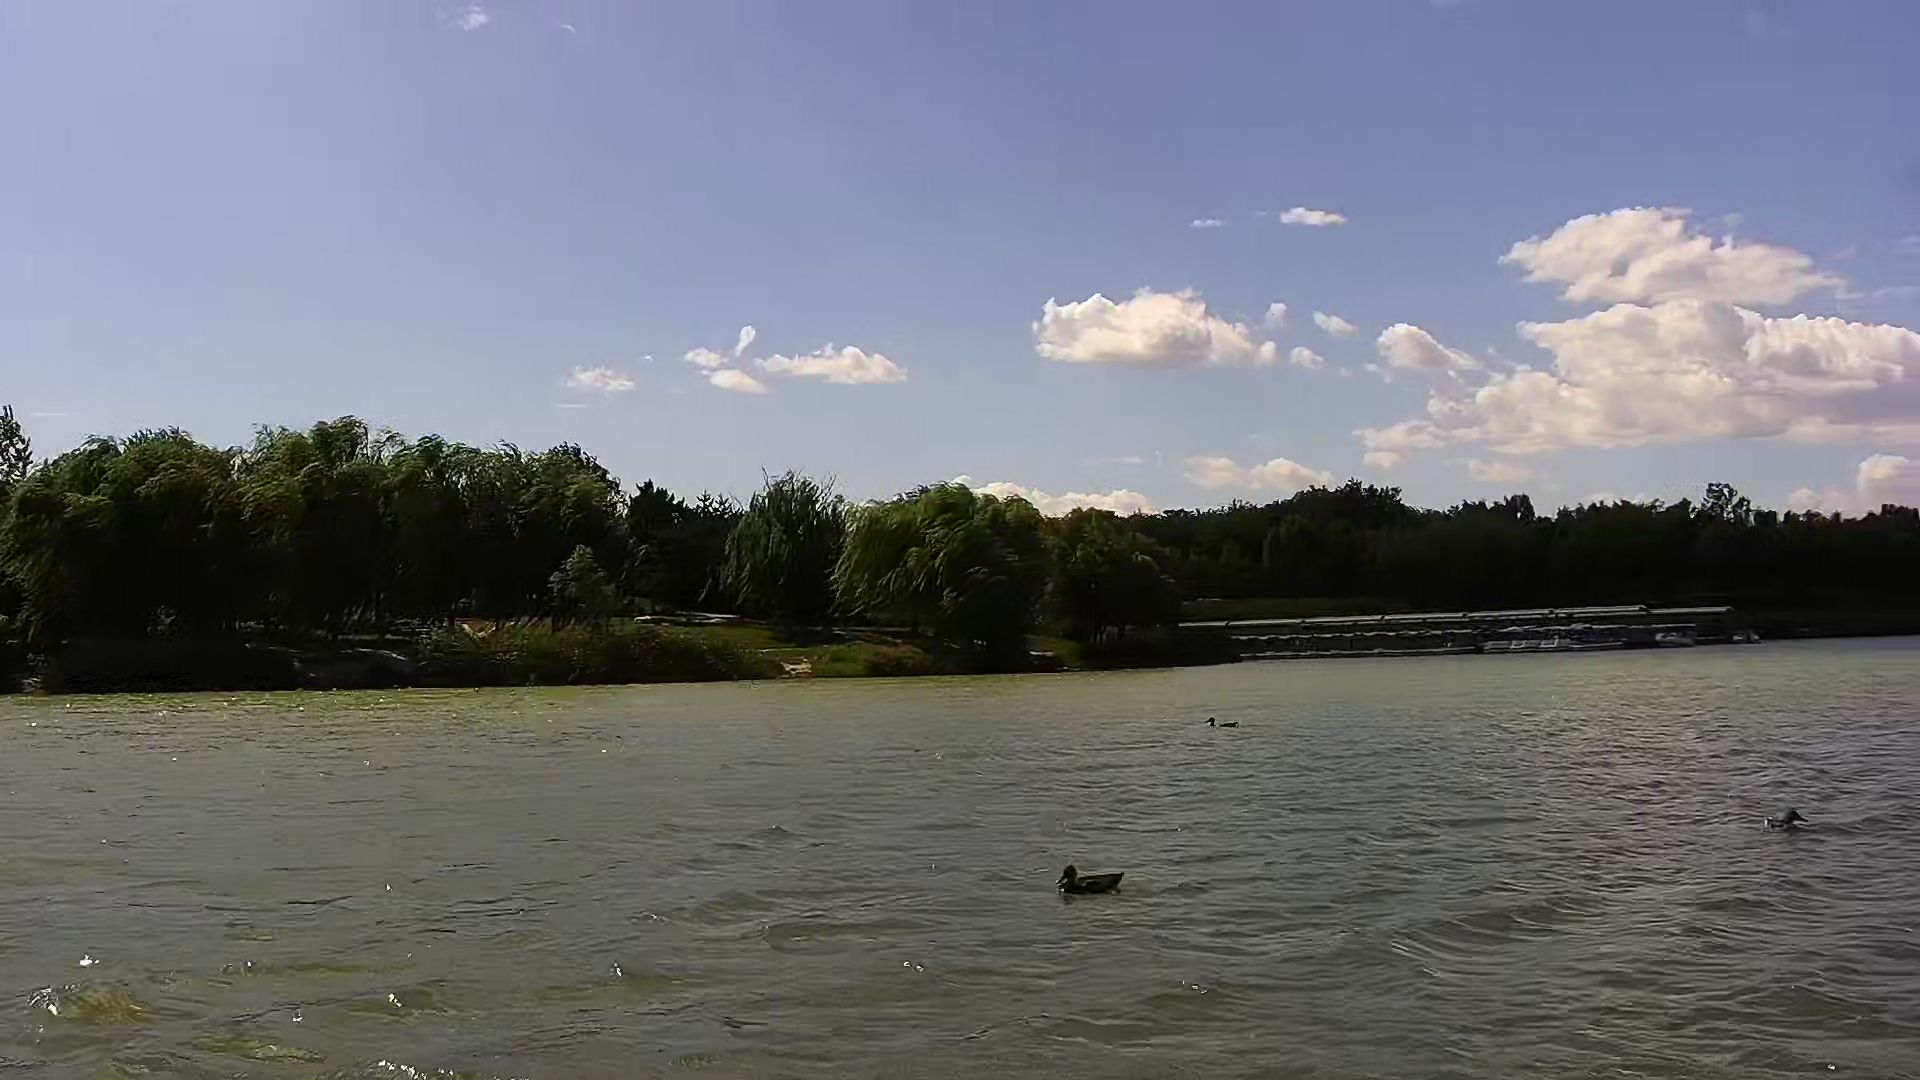animal: (1056, 862, 1124, 894), (1203, 709, 1241, 732), (1766, 806, 1803, 828)
harbor: (1236, 607, 1725, 651)
rock: (785, 659, 810, 679)
